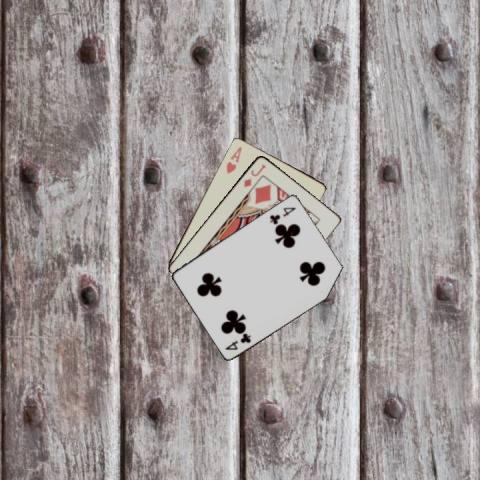4c: (222, 330, 253, 351), (266, 204, 296, 225)
Ah: (224, 143, 244, 175)
Jd: (241, 161, 267, 189)
